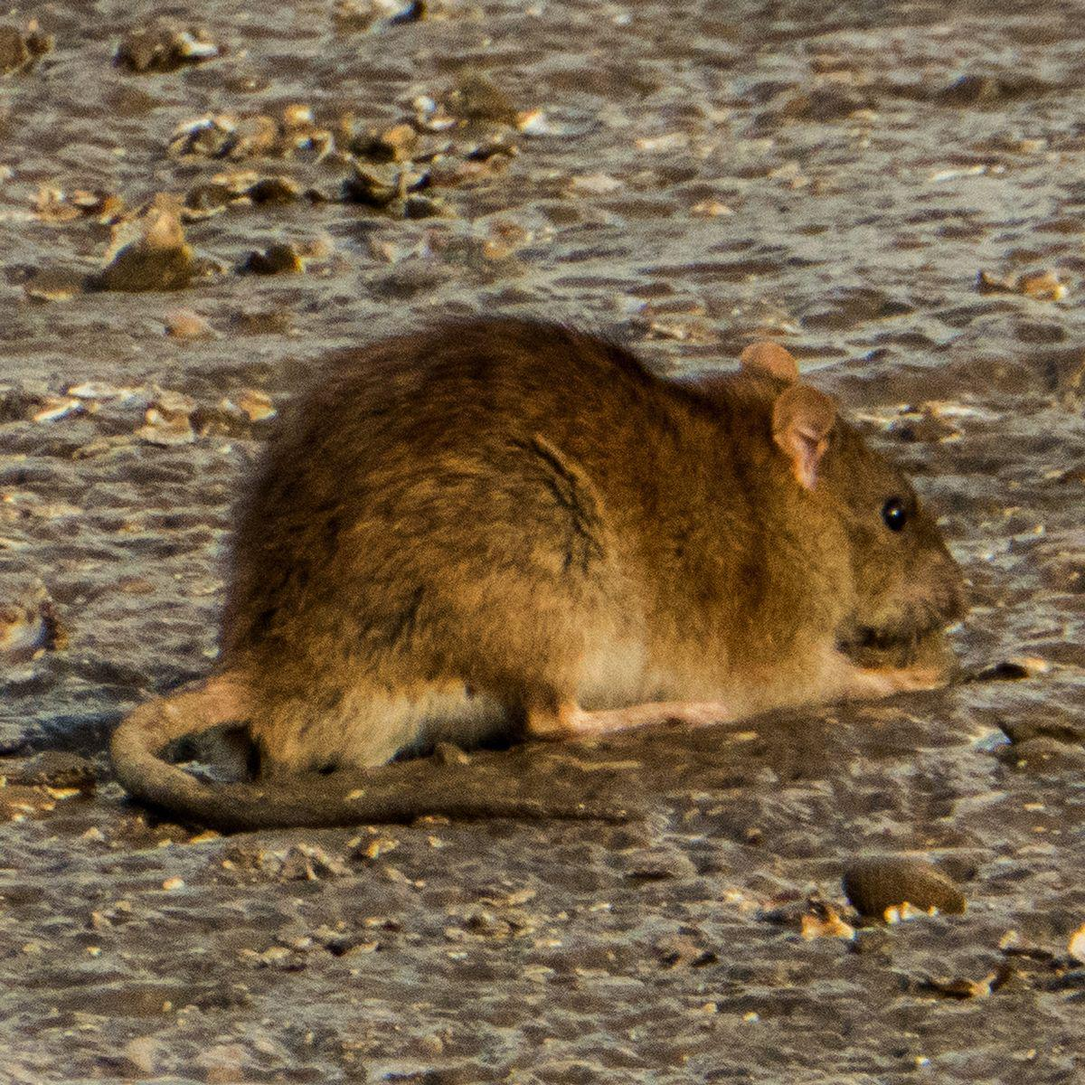rat: (111, 316, 967, 811)
